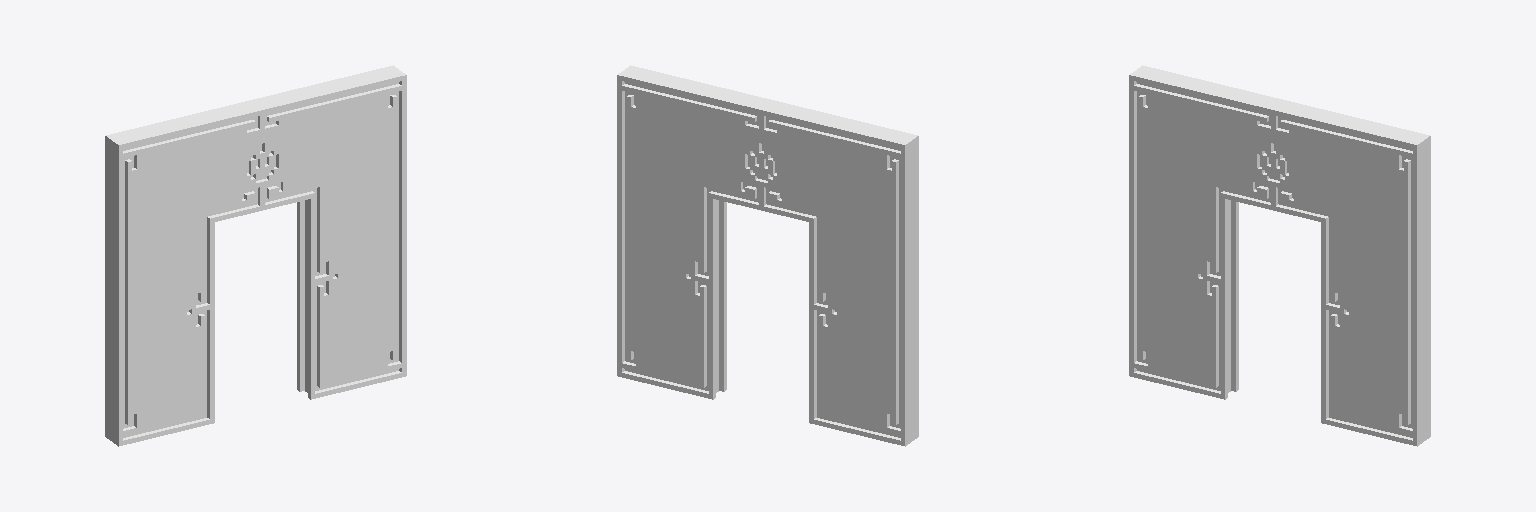
File: MurTrou.obj
The picture shows the model from 3 angles: view 1: azimuth 30°, elevation 25°; view 2: azimuth 150°, elevation 25°; view 3: azimuth 330°, elevation 25°; orthographic projection.
Bounding box in the file's own units: 63 × 63 × 5.